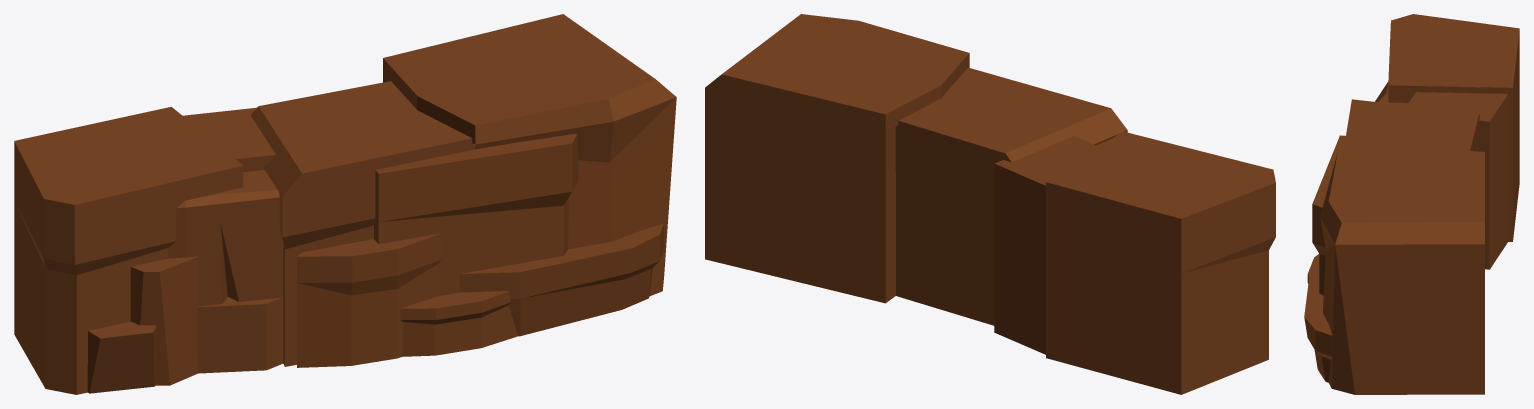
File: Cliff_02.fbx
3 renders of one model, left to right at view 1: azimuth 30°, elevation 25°; view 2: azimuth 150°, elevation 25°; view 3: azimuth 270°, elevation 25°, orthographic. The views are drawn at different scales.
Parts seen in each view (by area): view 1: Cliff_02; view 2: Cliff_02; view 3: Cliff_02.
Boxes of the visible parts, x1,y1,x2,y2 form: Cliff_02: [14, 14, 676, 394]; Cliff_02: [705, 14, 1275, 394]; Cliff_02: [1304, 14, 1519, 394].
Size of the model in its own units: 2657 by 904 by 1067.
